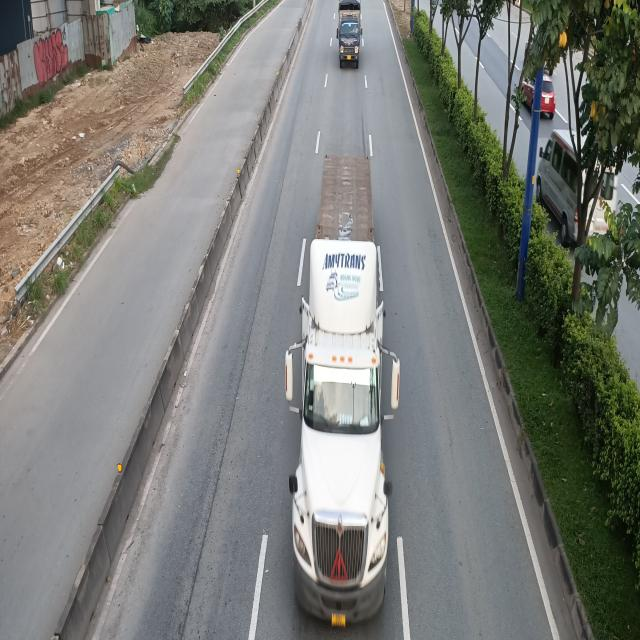container: (284, 150, 397, 626)
truck: (337, 1, 364, 70)
